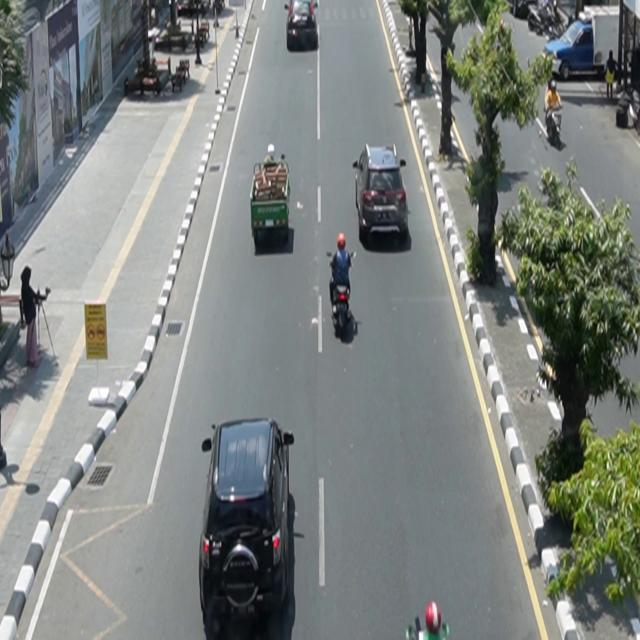car: (200, 417, 297, 636), (353, 143, 410, 242), (285, 1, 320, 52)
